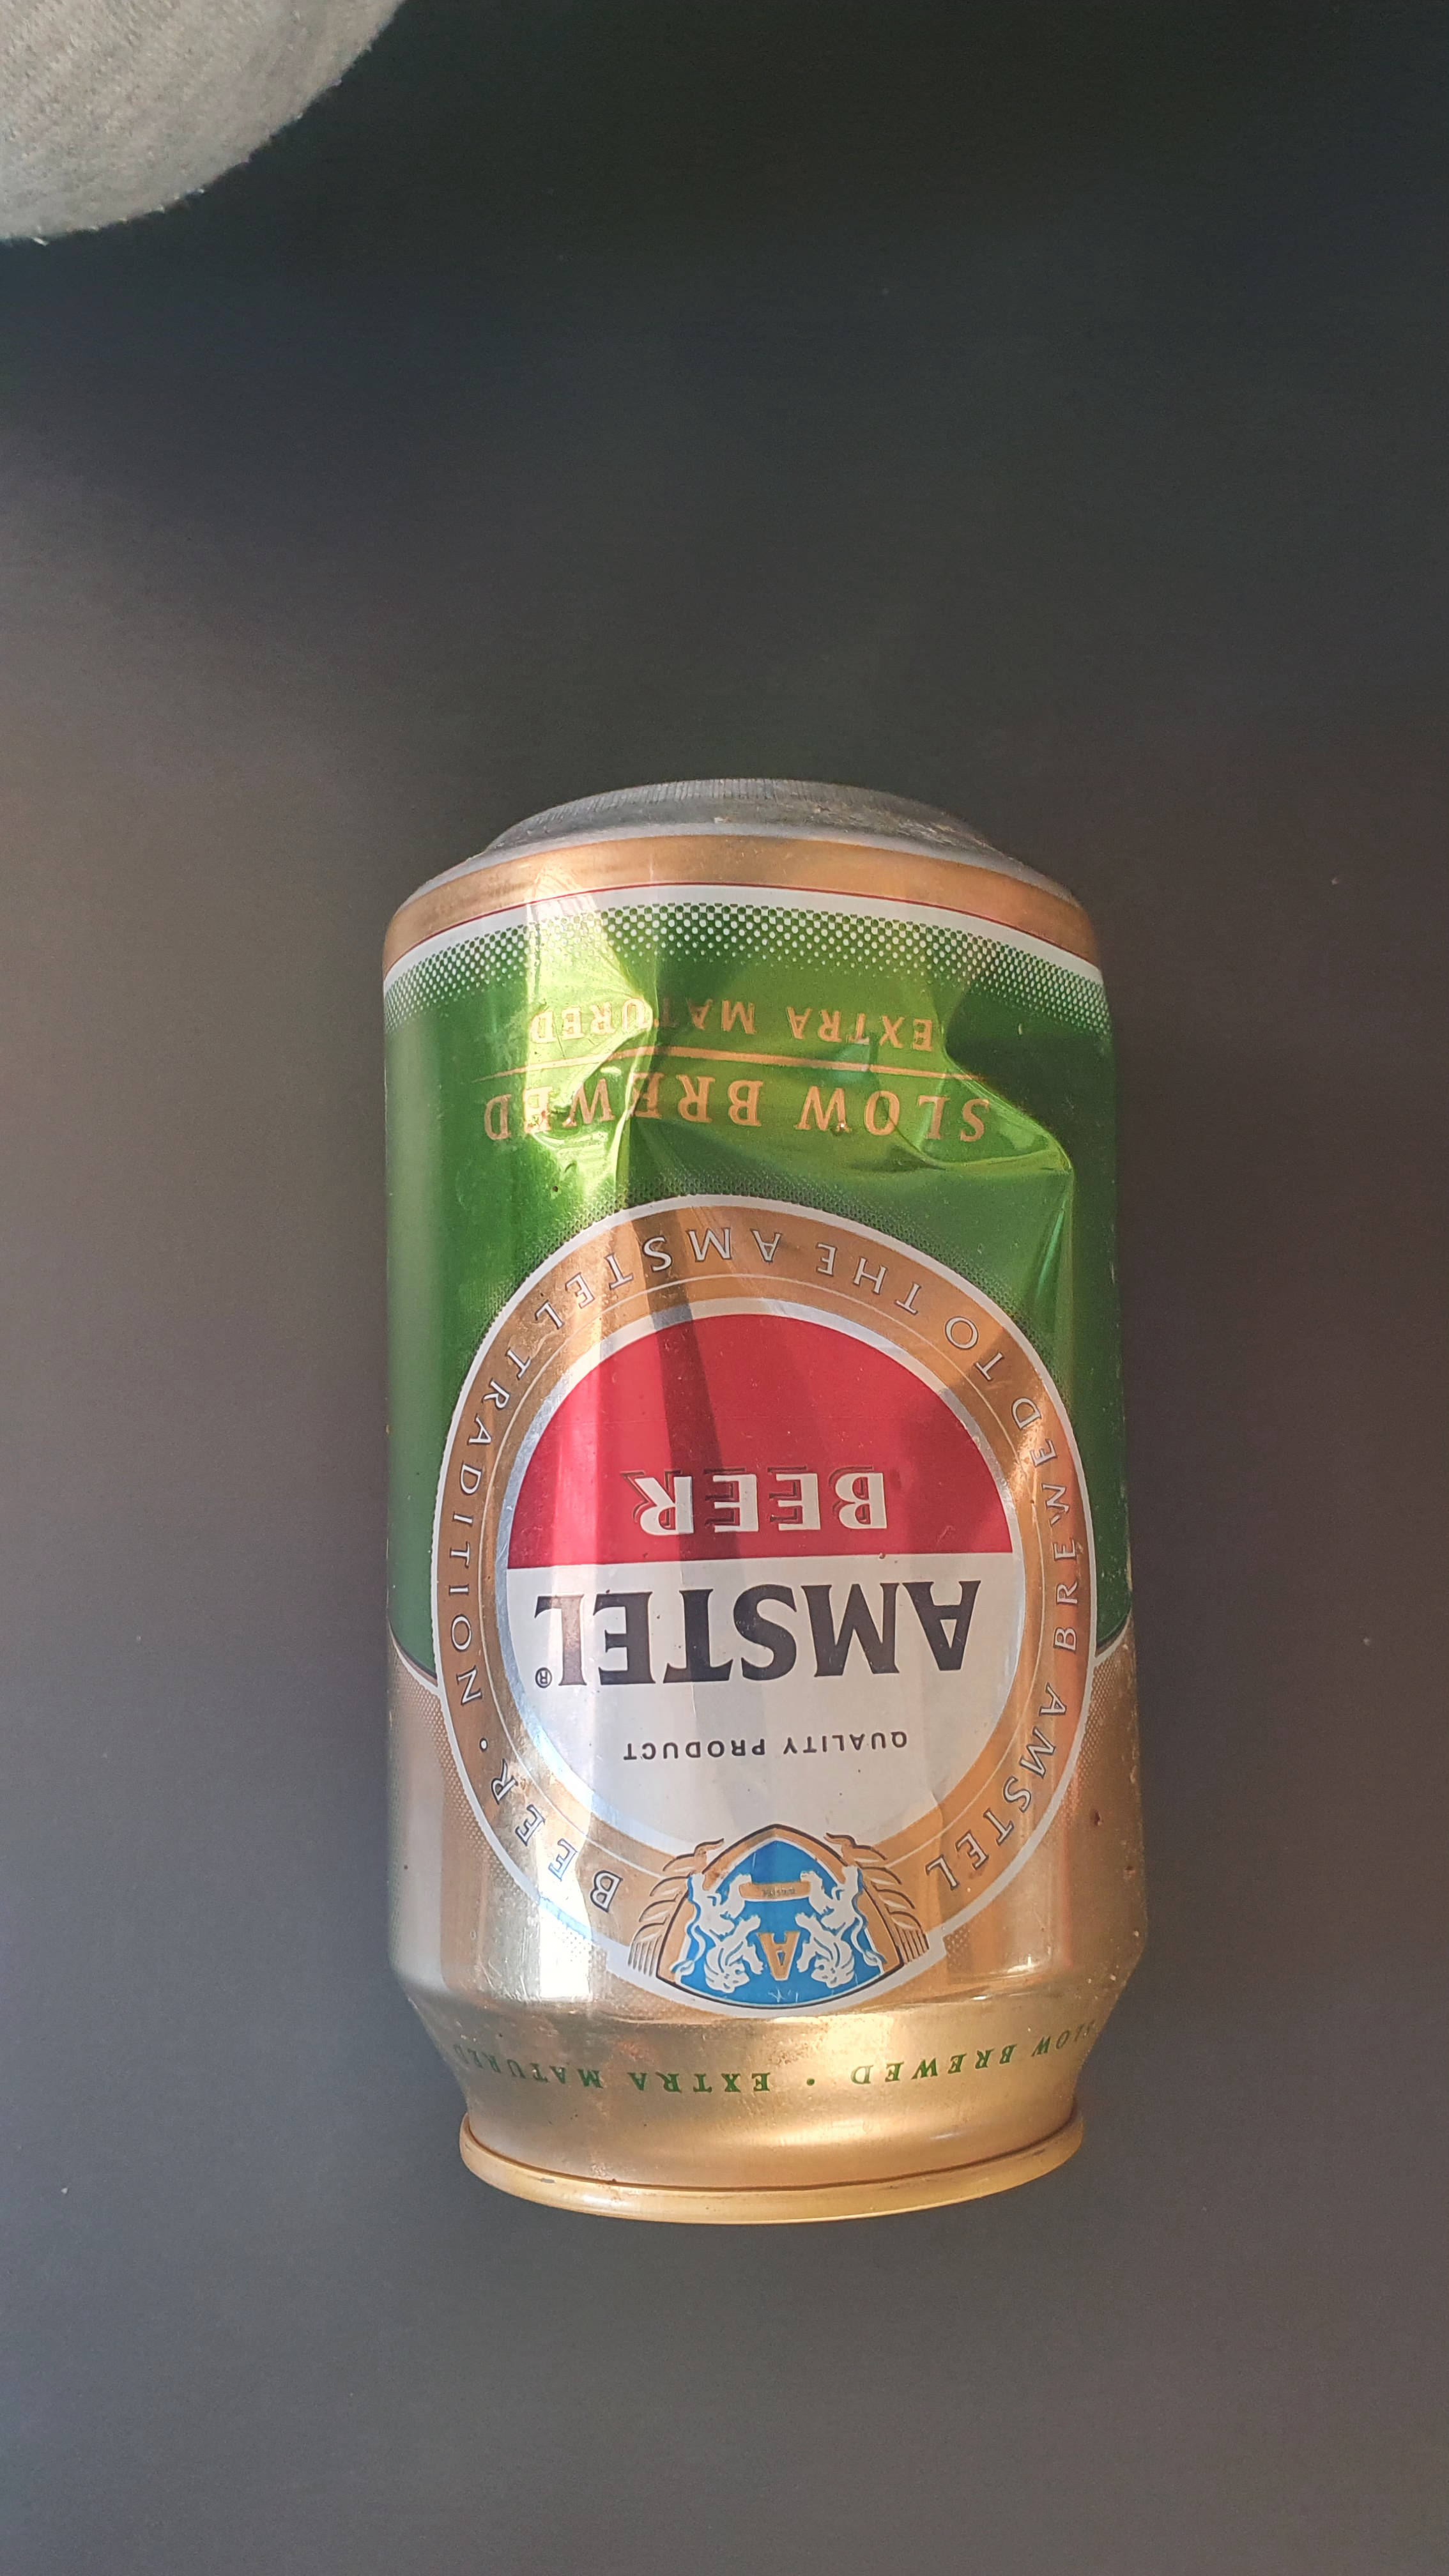metal: (324, 713, 1191, 2277)
